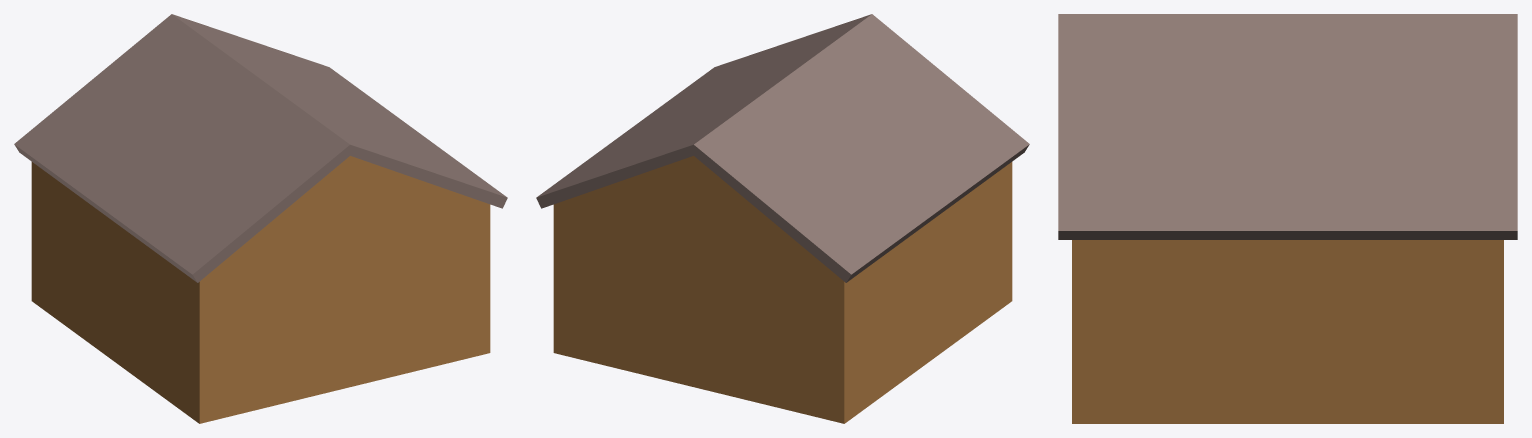
Rendered from Map-House-T-Lv1-R.fbx.
3 renders of one model, left to right at view 1: azimuth 30°, elevation 25°; view 2: azimuth 150°, elevation 25°; view 3: azimuth 270°, elevation 25°, orthographic. The views are drawn at different scales.
Visible parts, largest first — view 1: Map-House-T-Lv1-R; view 2: Map-House-T-Lv1-R; view 3: Map-House-T-Lv1-R.
Boxes of the visible parts, bbox=[...] form: Map-House-T-Lv1-R: bbox=[14, 14, 507, 423]; Map-House-T-Lv1-R: bbox=[536, 14, 1029, 423]; Map-House-T-Lv1-R: bbox=[1058, 14, 1517, 423].
Bounding box in the file's own units: 1.3 × 0.975 × 1.27.
